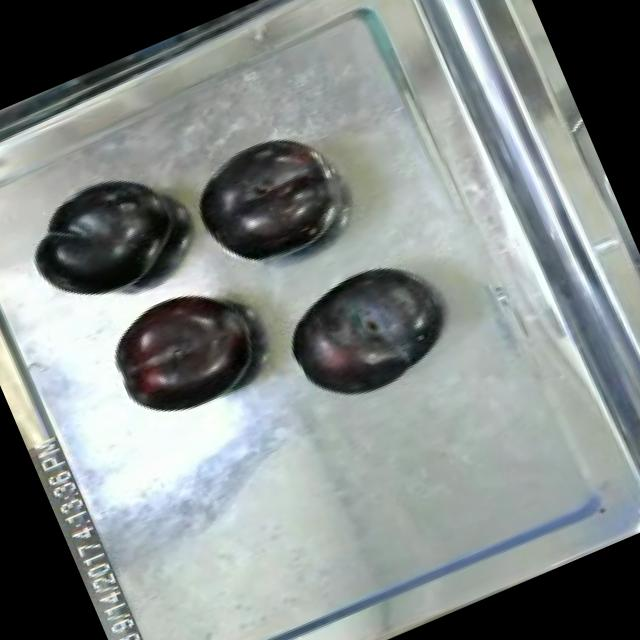Fruit: (269, 246, 460, 419), (90, 265, 277, 435), (177, 115, 360, 286), (10, 155, 196, 323)
